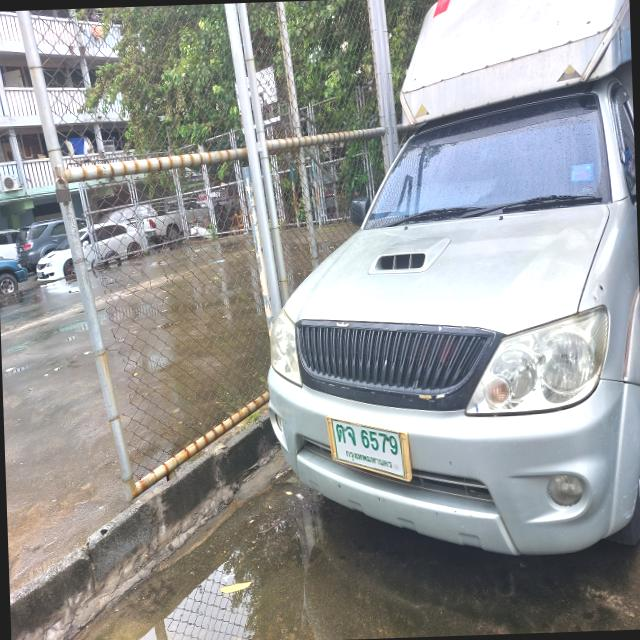license_plate: (324, 408, 415, 488)
